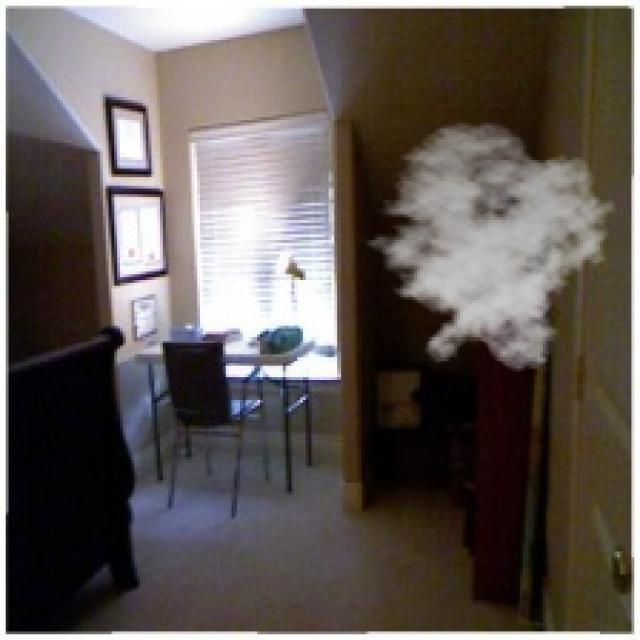Smoke: (352, 120, 617, 372)
